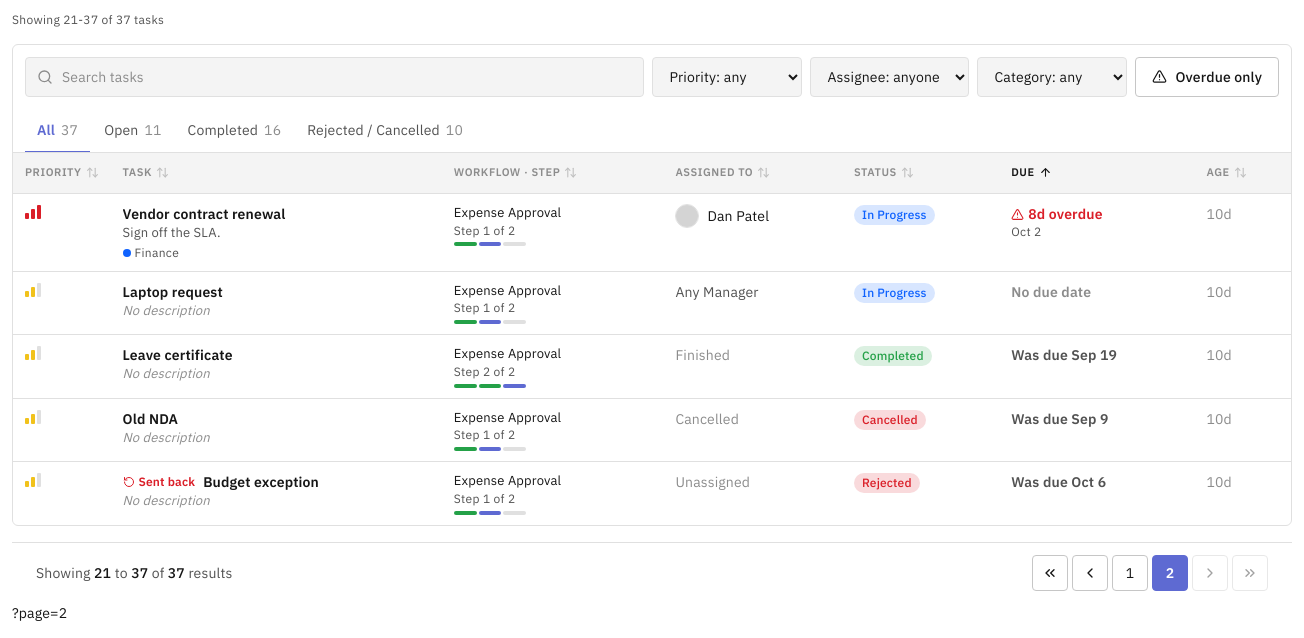
Scenario: AllTasks (table) › TC-A03: changing tab asks the server for that group and goes back to page 1
Expected: the button "Vendor contract renewal" is shown, 122,204 -> 286,224
Click the tab "Completed16" at (234, 131), box 176,109 -> 293,153
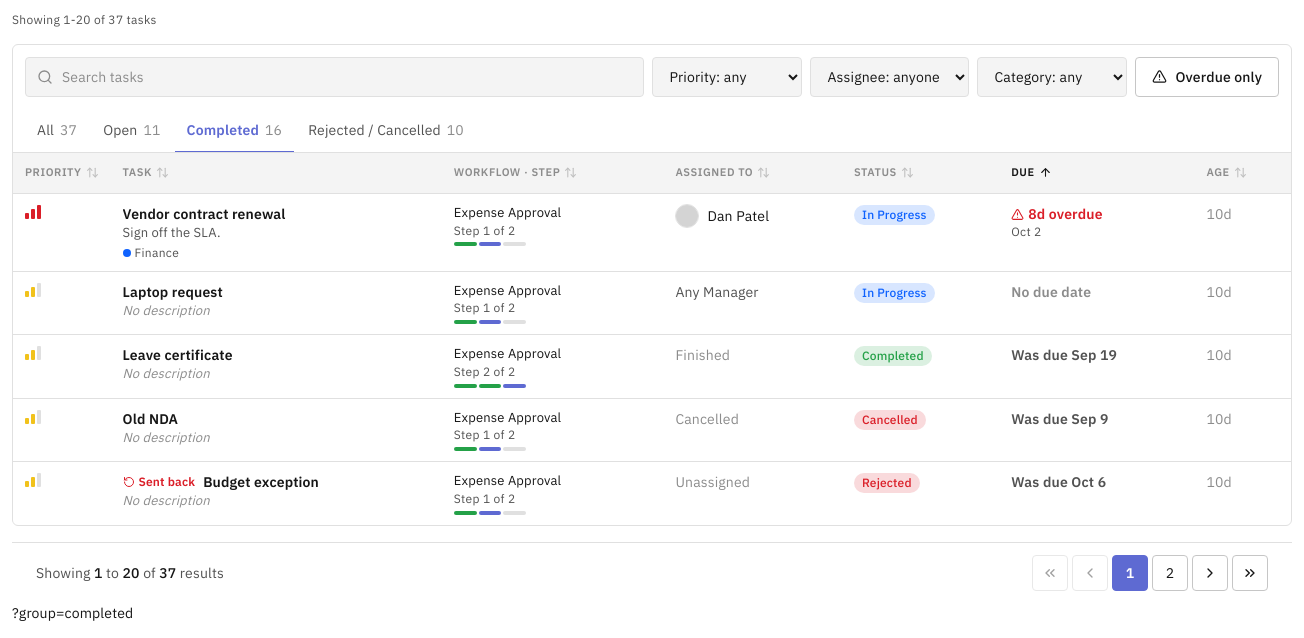
Result: the text with test id "where" reads "?group=completed" at 12,604 -> 133,622
Result: the text with test id "where" no longer shows "page=" at 12,604 -> 133,622
